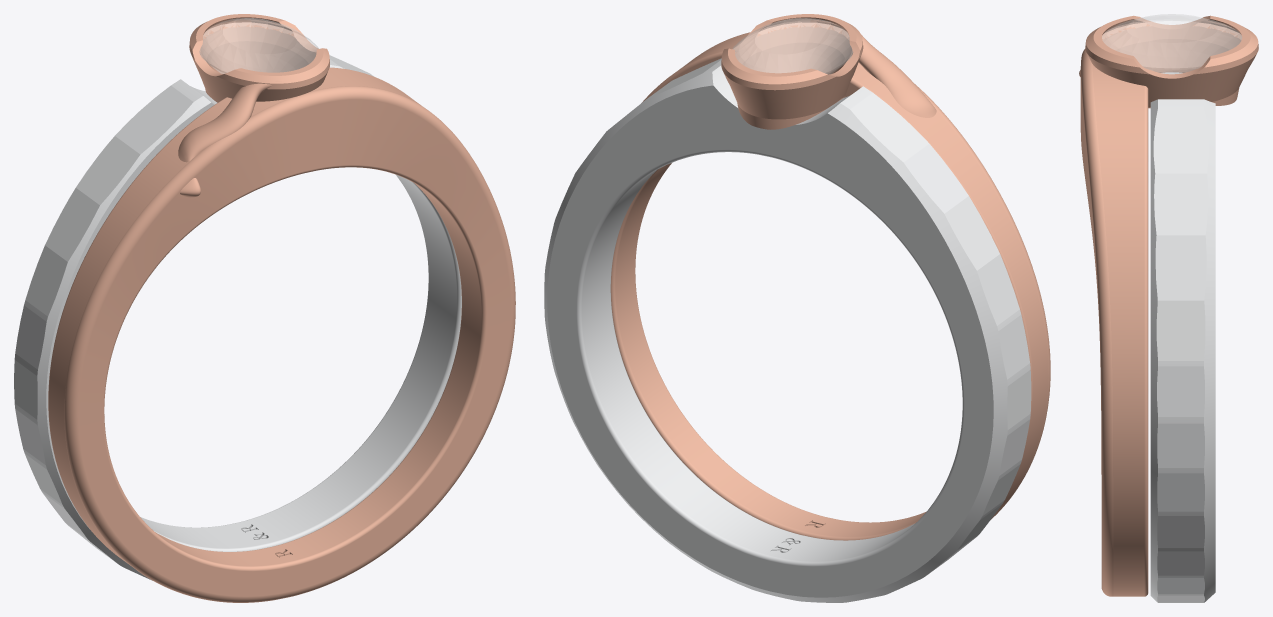
The model's file is display.glb.
3 views of the same model, side by side, from view 1: azimuth 30°, elevation 25°; view 2: azimuth 150°, elevation 25°; view 3: azimuth 270°, elevation 25° (orthographic).
Visible parts, largest first — view 1: A_Rose, B_White, Oval; view 2: B_White, A_Rose, Oval; view 3: A_Rose, B_White, Oval.
Boxes of the visible parts, bbox=[...] form: A_Rose: bbox=[48, 14, 515, 602]; B_White: bbox=[14, 55, 461, 580]; Oval: bbox=[199, 18, 318, 73]; B_White: bbox=[544, 58, 1031, 602]; A_Rose: bbox=[610, 14, 1050, 540]; Oval: bbox=[733, 18, 852, 74]; A_Rose: bbox=[1079, 15, 1258, 596]; B_White: bbox=[1150, 72, 1215, 602]; Oval: bbox=[1102, 14, 1241, 73].
Size of the model in its own units: 0.0206 by 0.0233 by 0.00693.
